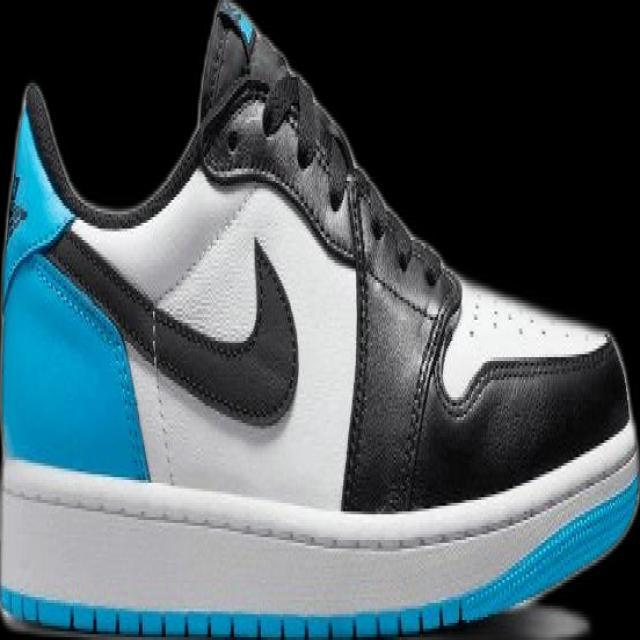J1_ShoeLogo: (0, 0, 639, 639)
J1_StitchPattern: (200, 71, 457, 510), (2, 448, 637, 555), (45, 225, 301, 426), (338, 171, 454, 512), (200, 73, 359, 261), (1, 592, 591, 638), (380, 302, 455, 512), (341, 172, 377, 511), (203, 73, 303, 182), (142, 305, 179, 484), (260, 71, 301, 137), (215, 1, 258, 56), (3, 172, 29, 239)
